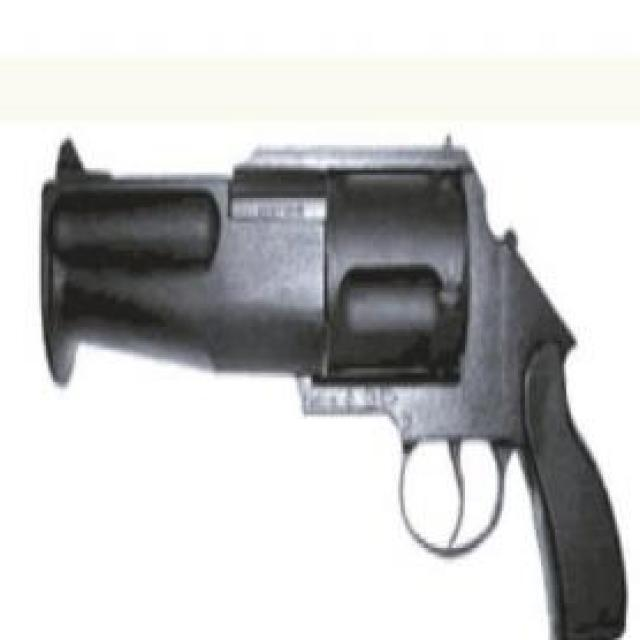pistol: (41, 136, 638, 640)
